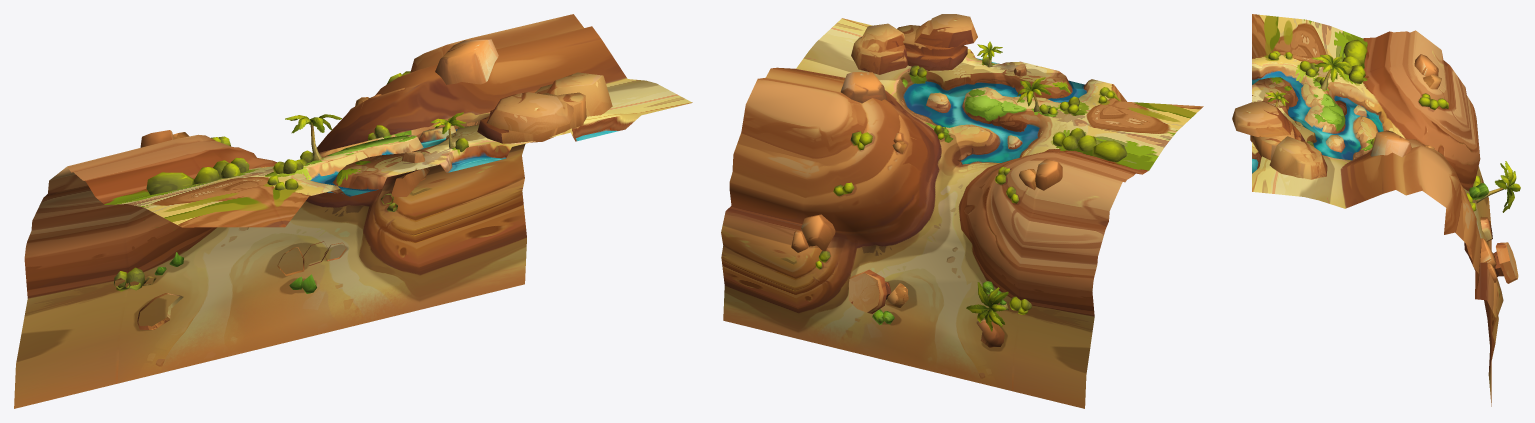
Rendered from Chapter1Model3.FBX.
3 views of the same model, side by side, from view 1: azimuth 30°, elevation 25°; view 2: azimuth 150°, elevation 25°; view 3: azimuth 270°, elevation 25° (orthographic). The views are drawn at different scales.
Parts seen in each view (by area): view 1: Chapter1Model3Model1, Chapter1Model3Model2, Chapter1Model3Model3; view 2: Chapter1Model3Model1, Chapter1Model3Model2, Chapter1Model3Model3; view 3: Chapter1Model3Model1, Chapter1Model3Model2, Chapter1Model3Model3.
Boxes of the visible parts, x1,y1,x2,y2 form: Chapter1Model3Model1: [14, 14, 692, 408]; Chapter1Model3Model2: [113, 39, 612, 329]; Chapter1Model3Model3: [142, 112, 465, 285]; Chapter1Model3Model1: [721, 18, 1203, 408]; Chapter1Model3Model2: [791, 14, 1127, 347]; Chapter1Model3Model3: [966, 41, 1052, 331]; Chapter1Model3Model1: [1252, 14, 1503, 406]; Chapter1Model3Model2: [1232, 39, 1518, 283]; Chapter1Model3Model3: [1265, 54, 1520, 212].
Bounding box in the file's own units: 970 × 666 × 616.
